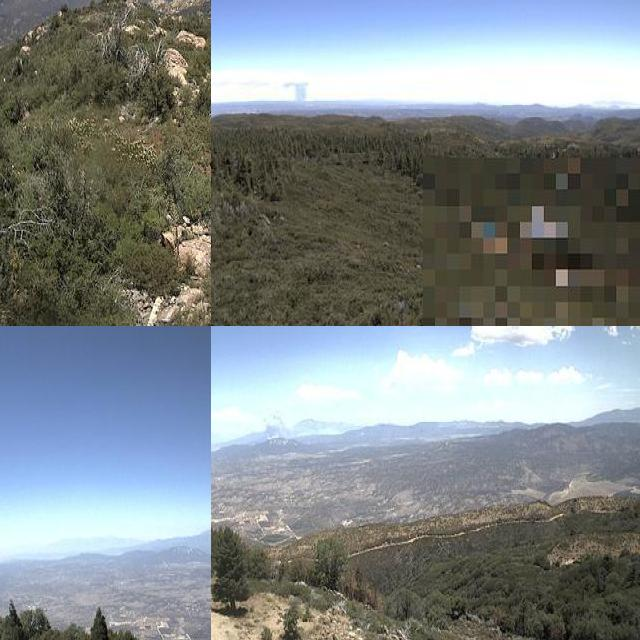smoke: (261, 418, 300, 449), (279, 78, 313, 104)
